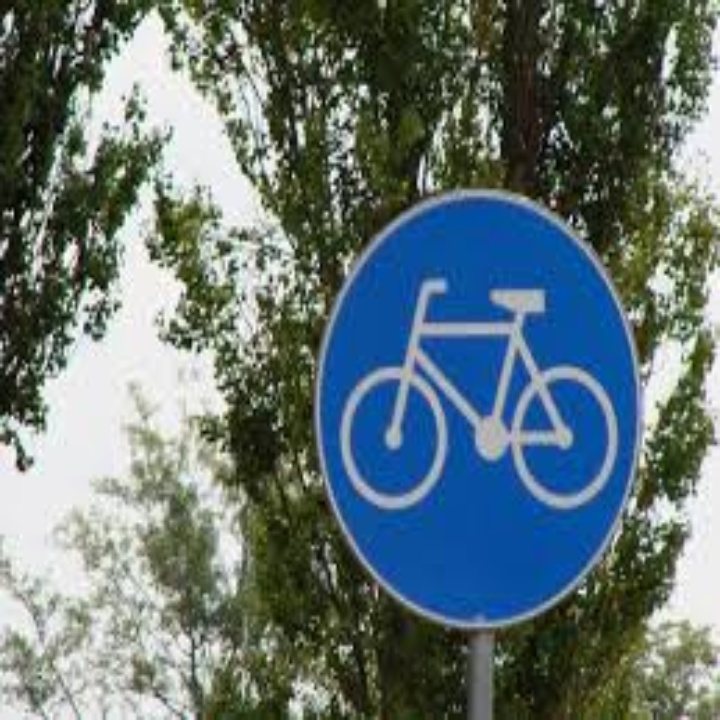bicycle: (329, 271, 627, 521)
